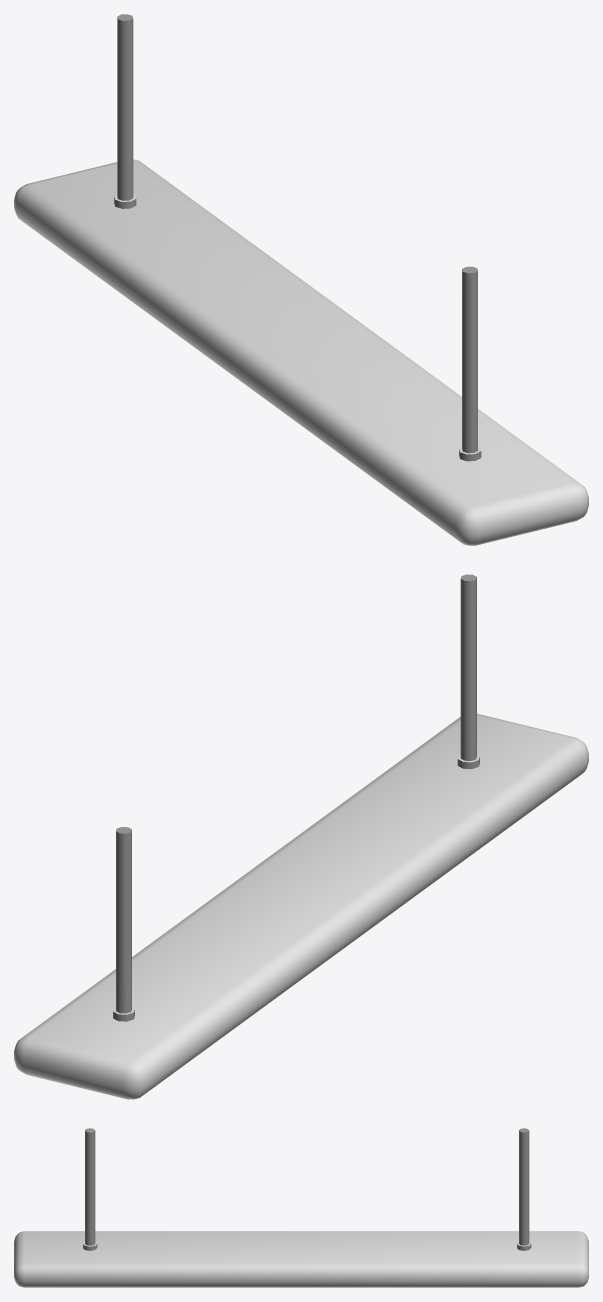
File: Lamp01.fbx
3 renders of one model, top to bottom at view 1: azimuth 30°, elevation 25°; view 2: azimuth 150°, elevation 25°; view 3: azimuth 270°, elevation 25°, orthographic. The views are drawn at different scales.
Parts seen in each view (by area): view 1: Lamp01; view 2: Lamp01; view 3: Lamp01.
Part boxes in pixels (x1=…): Lamp01: x1=14, y1=14, x2=588, y2=545; Lamp01: x1=14, y1=574, x2=588, y2=1099; Lamp01: x1=14, y1=1128, x2=588, y2=1287.
Bounding box in the file's own units: 0.1641 × 0.9969 × 0.2783.
